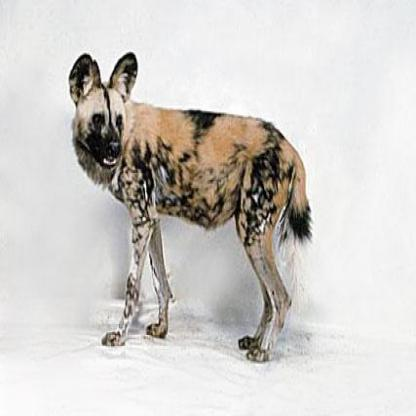African_hunting_dog: (69, 48, 312, 363)
